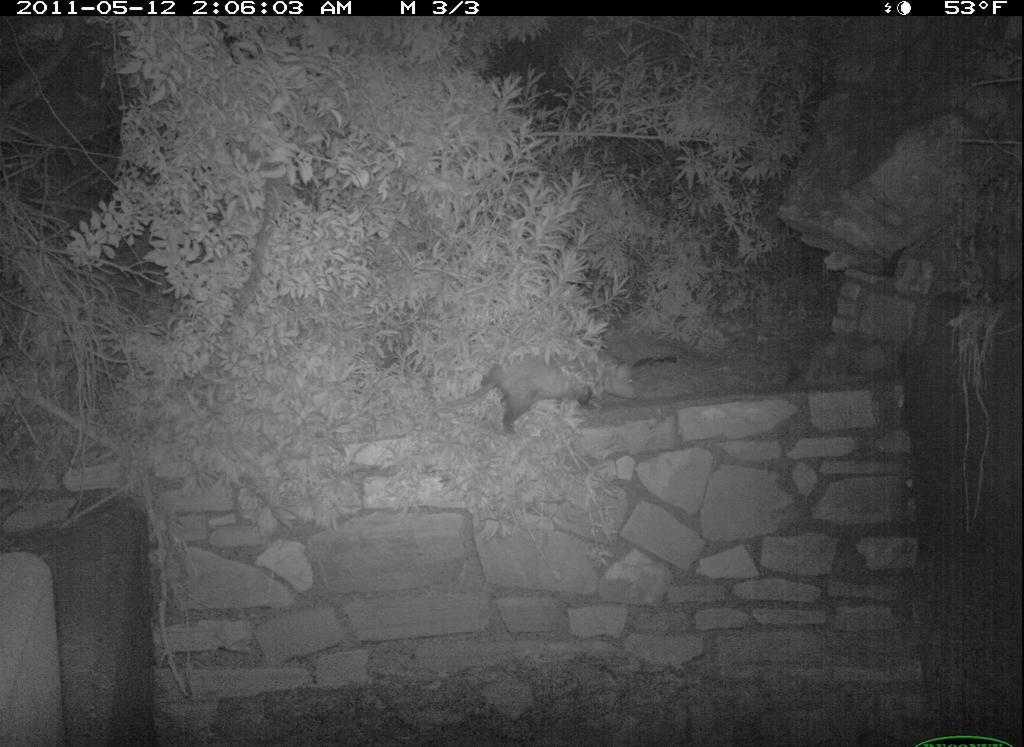opossum: (420, 326, 633, 465)
